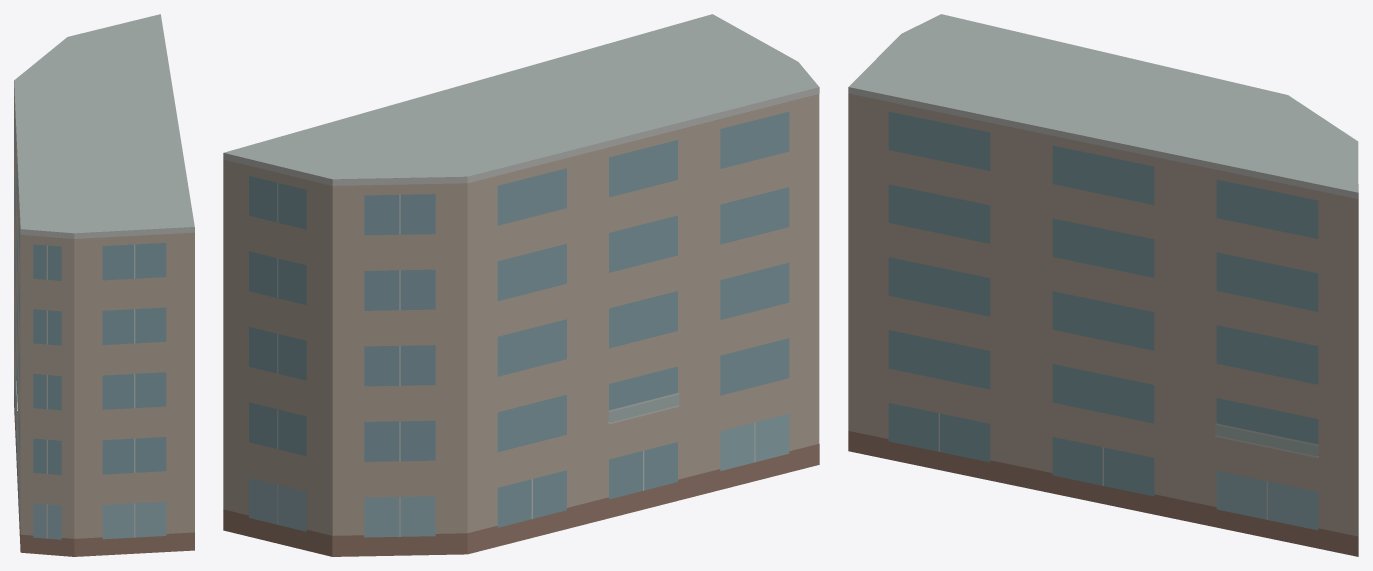
Rendered from survey-upis-32739615.glb.
3 renders of one model, left to right at view 1: azimuth 30°, elevation 25°; view 2: azimuth 150°, elevation 25°; view 3: azimuth 270°, elevation 25°, orthographic. The views are drawn at different scales.
Visible parts, largest first — view 1: survey-upis-32739615.tmp; view 2: survey-upis-32739615.tmp; view 3: survey-upis-32739615.tmp.
Part boxes in pixels (bbox=[...]): survey-upis-32739615.tmp: bbox=[14, 14, 194, 556]; survey-upis-32739615.tmp: bbox=[223, 14, 819, 556]; survey-upis-32739615.tmp: bbox=[848, 14, 1358, 556].
Bounding box in the file's own units: 14.64 × 13.9 × 17.66.
